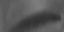LeftEyeFatigue: (6, 4, 63, 32)
